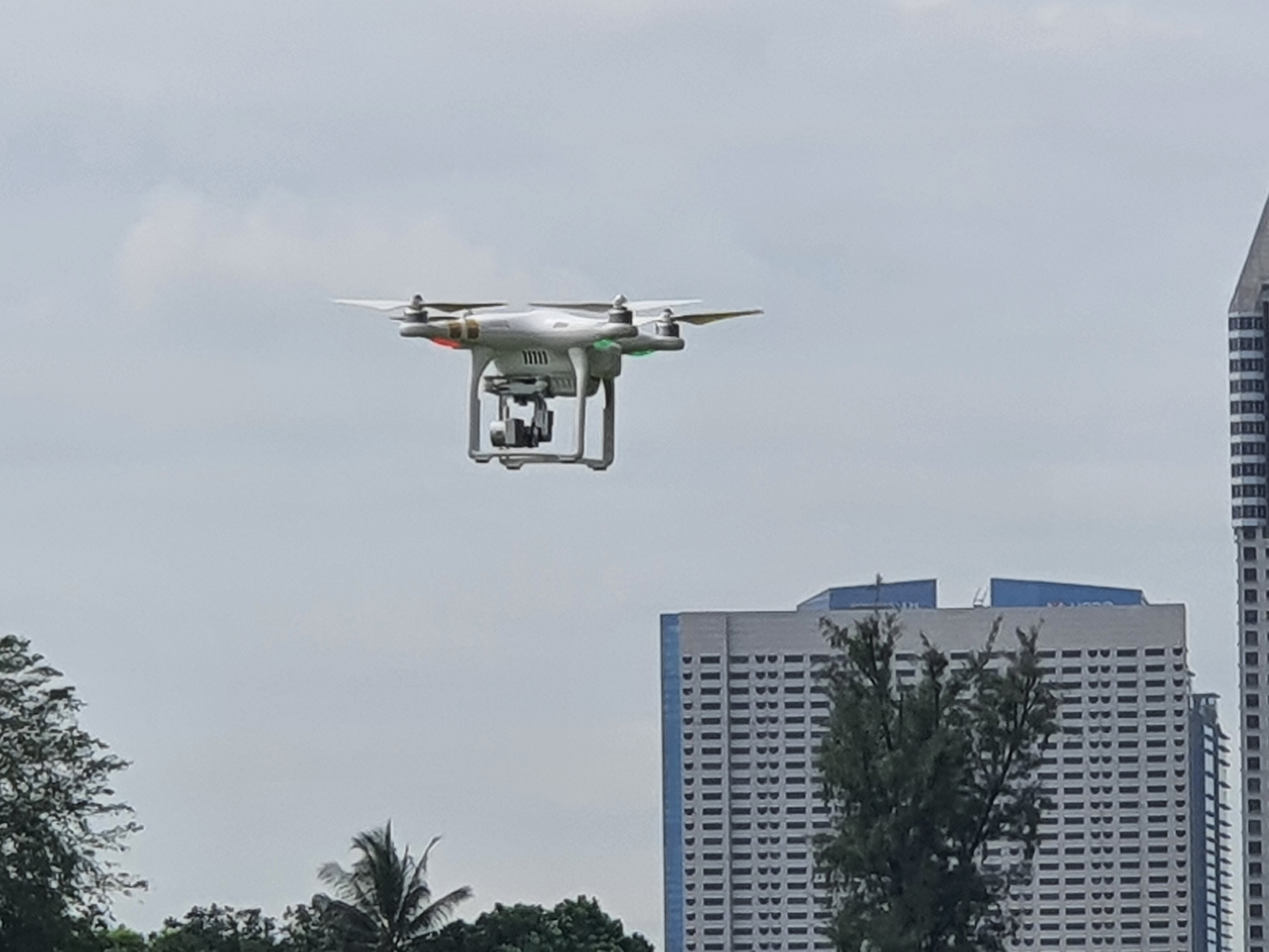drone_other: (333, 283, 768, 469)
